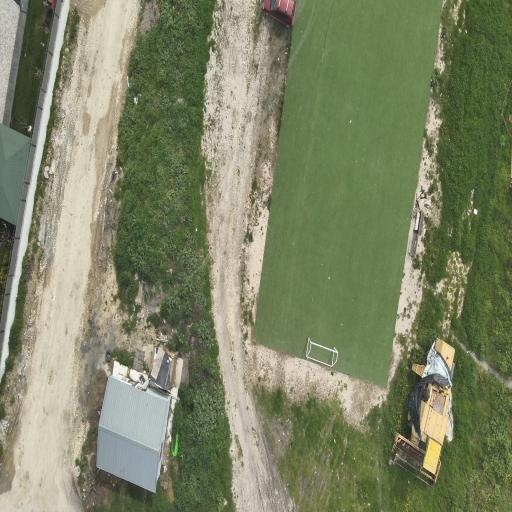car: (263, 0, 296, 26)
harvester: (392, 339, 454, 485)
